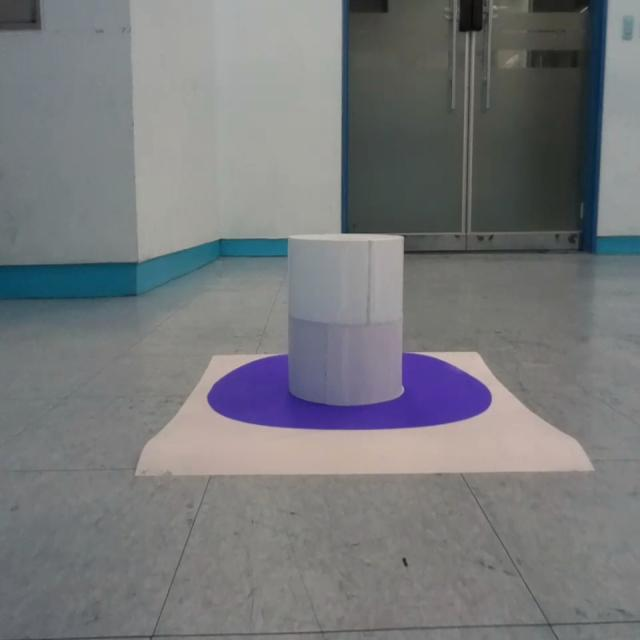cylinder: (287, 234, 404, 408)
